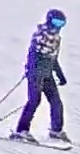skier: (1, 9, 80, 151)
